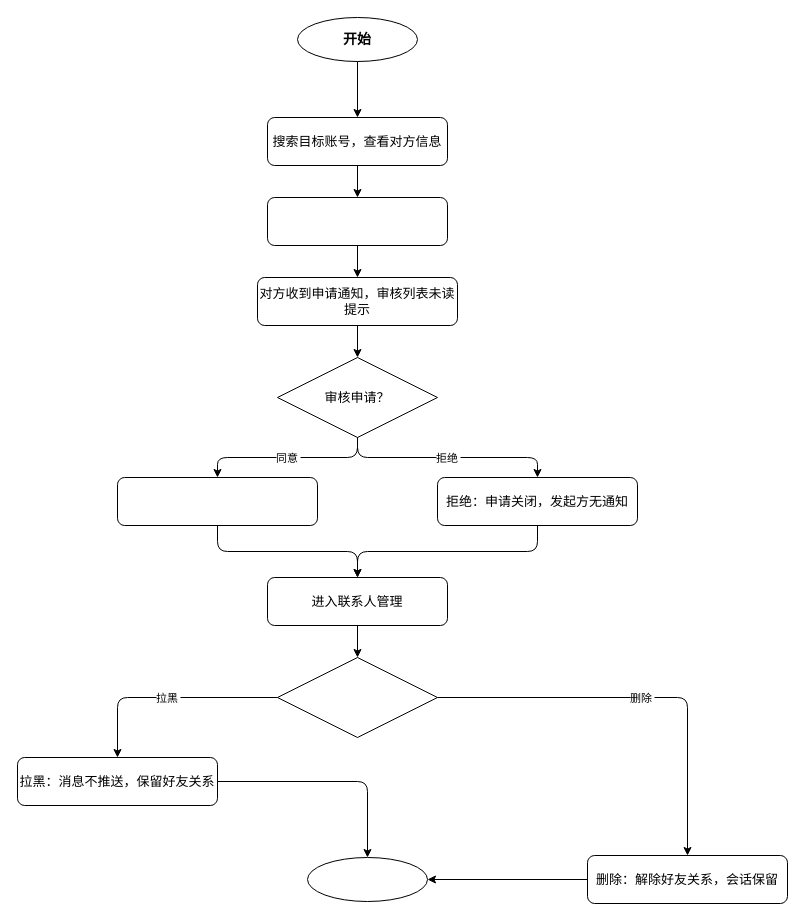
This 805x921 diagram has some shape labels left out. The centre of each missing label's shape, as x and y in pixels:
"发起好友申请（可附留言）" belongs at (x=357, y=221).
"同意：双方互为好友，新增会话入口" belongs at (x=217, y=501).
"结束" belongs at (x=367, y=879).
"选择操作？" belongs at (x=357, y=697).
